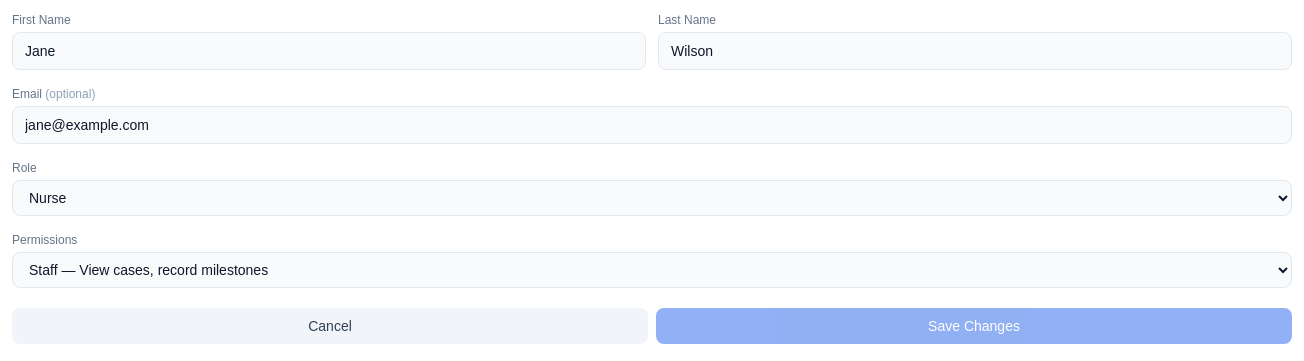
Test: EditUserForm › validation › enables Save when field is changed
Replace the text in the field labelled "First Name" with "Janet" at (329, 51), box [12,32,646,70]
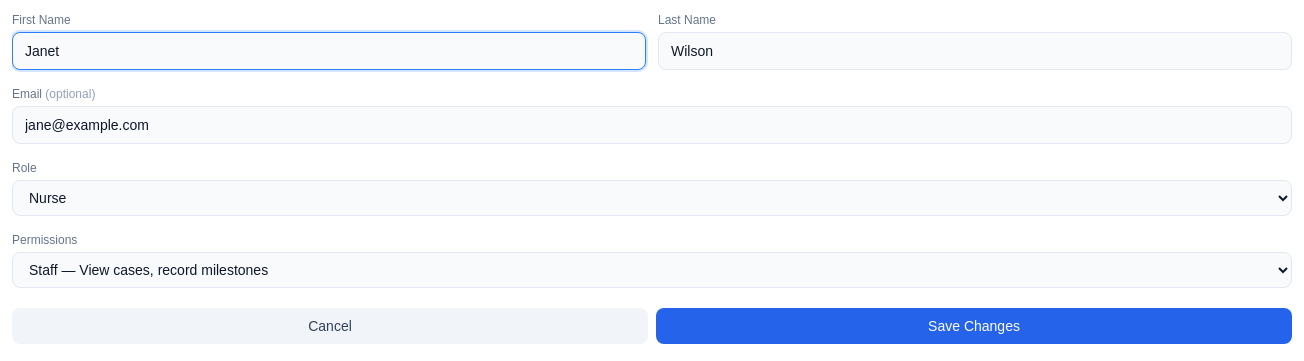
Check: the button "Save Changes" is enabled, box [656,308,1292,344]
